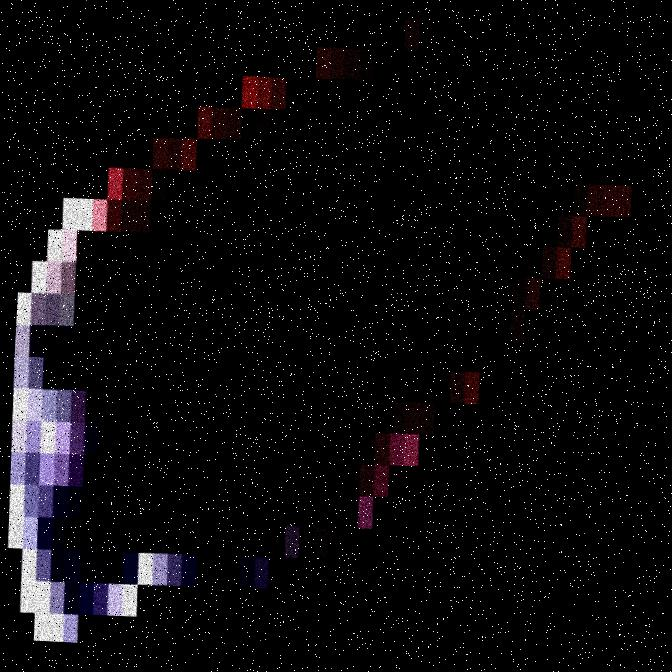Oculos: (639, 0, 671, 671)
